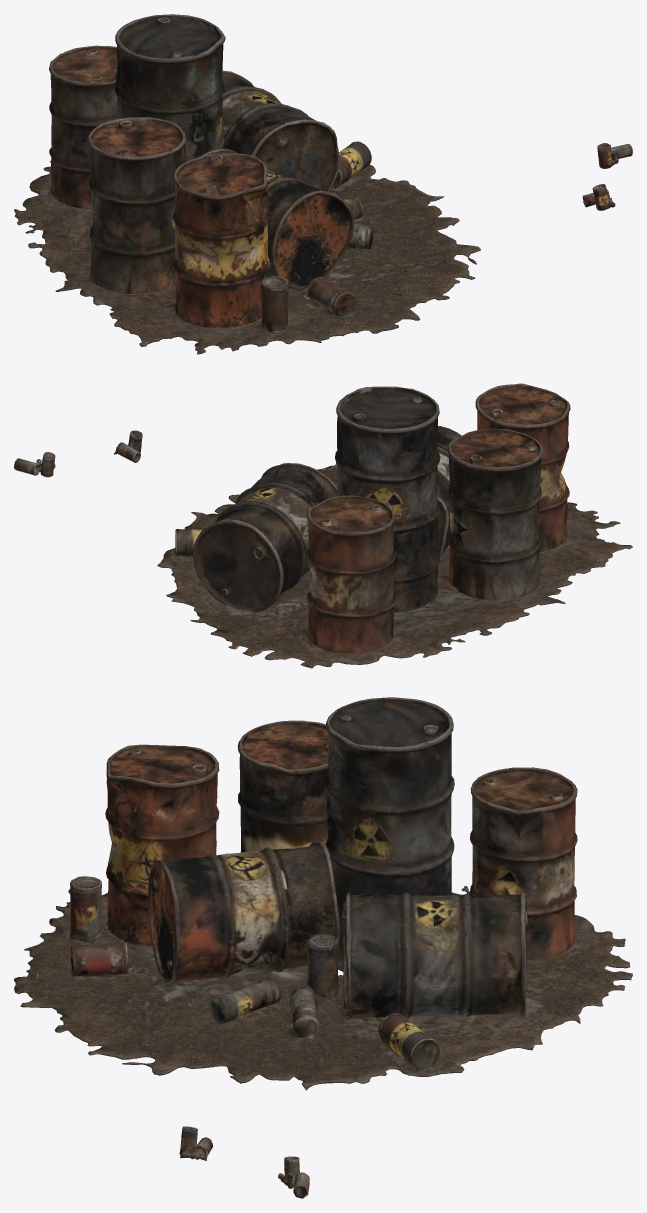
File: destroyed-barrels-meshy-v2.glb
3 views of the same model, one above another, from view 1: azimuth 30°, elevation 25°; view 2: azimuth 150°, elevation 25°; view 3: azimuth 270°, elevation 25° (orthographic). The views are drawn at different scales.
Parts seen in each view (by area): view 1: Mesh_0; view 2: Mesh_0; view 3: Mesh_0.
Part boxes in pixels (x1,y1,x2,y2): Mesh_0: (14, 14, 632, 354); Mesh_0: (14, 383, 632, 668); Mesh_0: (14, 697, 632, 1198).
Bounding box in the file's own units: 1.86 × 0.6121 × 1.46.
1 material, 1 textured.
